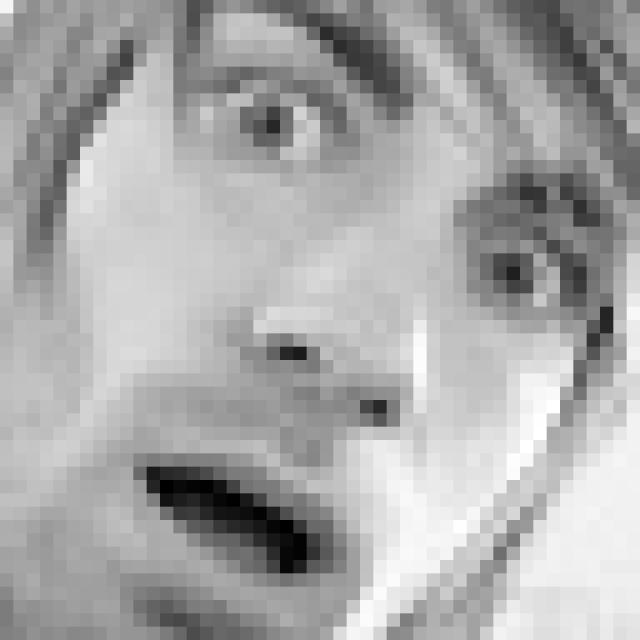surprise: (73, 0, 611, 640)
